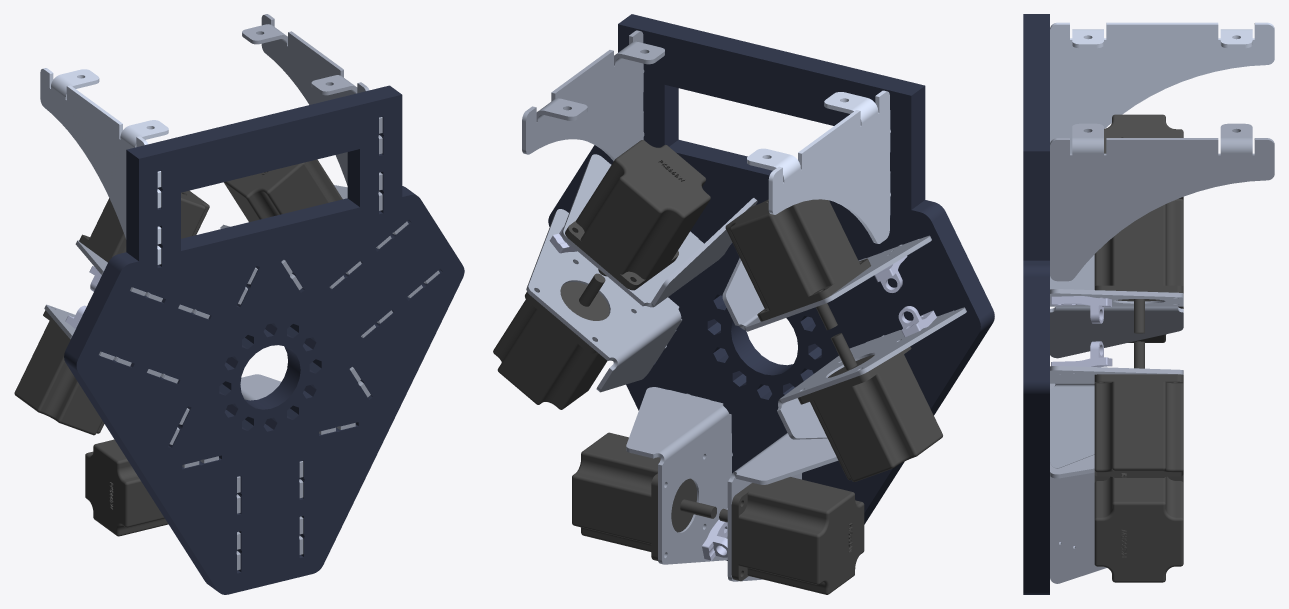
3 views of the same model, side by side, from view 1: azimuth 30°, elevation 25°; view 2: azimuth 150°, elevation 25°; view 3: azimuth 270°, elevation 25° (orthographic). The views are drawn at different scales.
Visible parts, largest first — view 1: Polygon (×11); view 2: Polygon (×17); view 3: Polygon (×13).
Part boxes in pixels (box(x1,y1,x2,y2)): Polygon (×11): box(14, 14, 464, 594); Polygon (×17): box(493, 14, 994, 594); Polygon (×13): box(1023, 14, 1274, 594).
Bounding box in the file's own units: 32.24 × 36.43 × 16.94.
